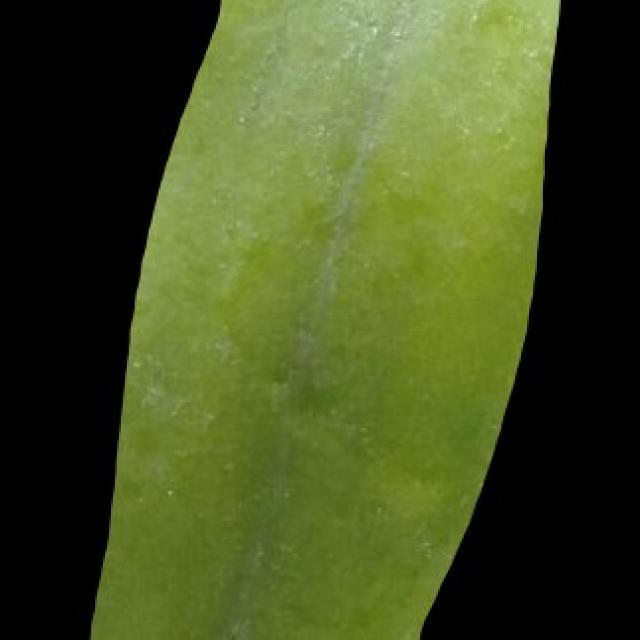mite: (410, 533, 436, 563), (162, 483, 176, 499)
